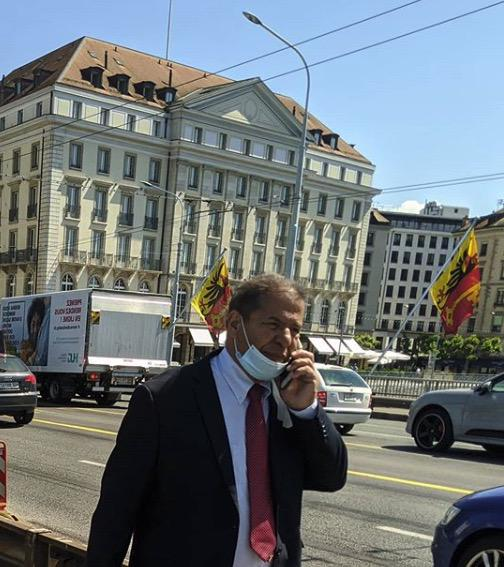mask_weared_incorrect: (234, 305, 304, 374)
